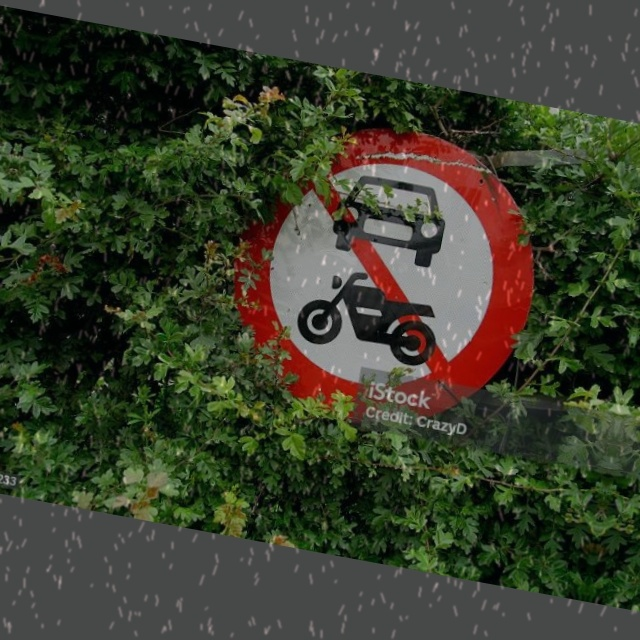All_Motor_Vehicles_Prohibited: (212, 105, 557, 452)
